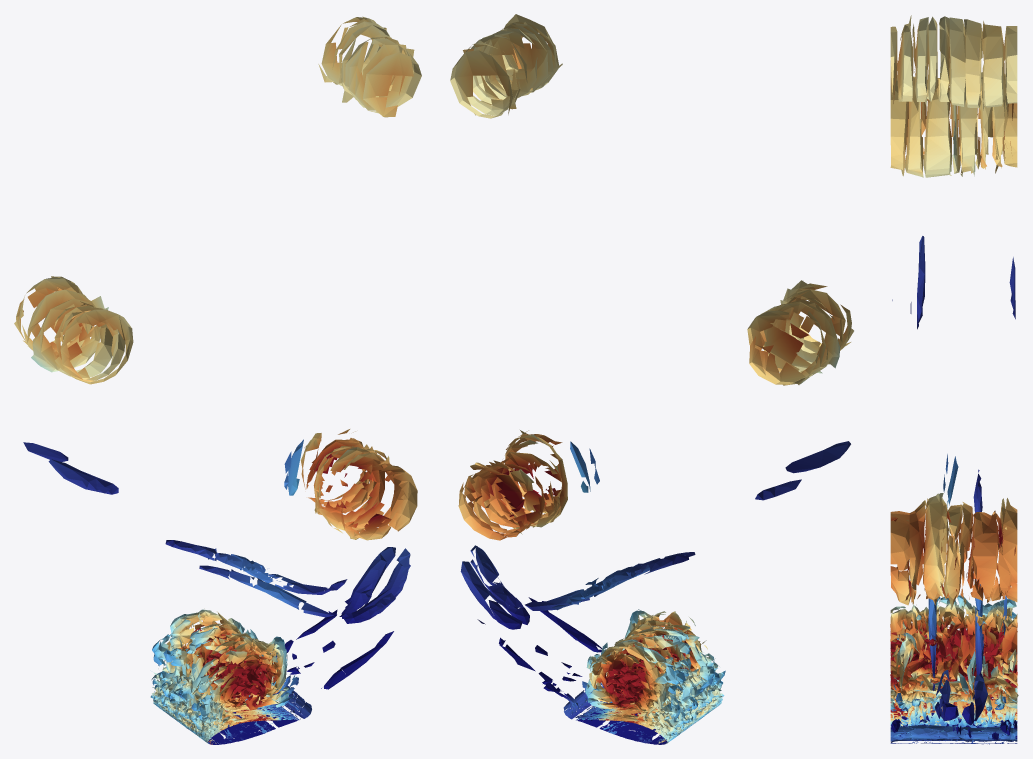
File: flowfield_5_TurbulentEnergyKinetic.glb
3 views of the same model, side by side, from view 1: azimuth 30°, elevation 25°; view 2: azimuth 150°, elevation 25°; view 3: azimuth 270°, elevation 25° (orthographic). The views are drawn at different scales.
Parts seen in each view (by area): view 1: Renderer Node; view 2: Renderer Node; view 3: Renderer Node.
Boxes of the visible parts, x1,y1,x2,y2 form: Renderer Node: (14,16,421,744); Renderer Node: (450,14,853,744); Renderer Node: (890,15,1018,744).
Size of the model in its own units: 4.11 by 6.86 by 1.02.
1 material, 1 textured.
